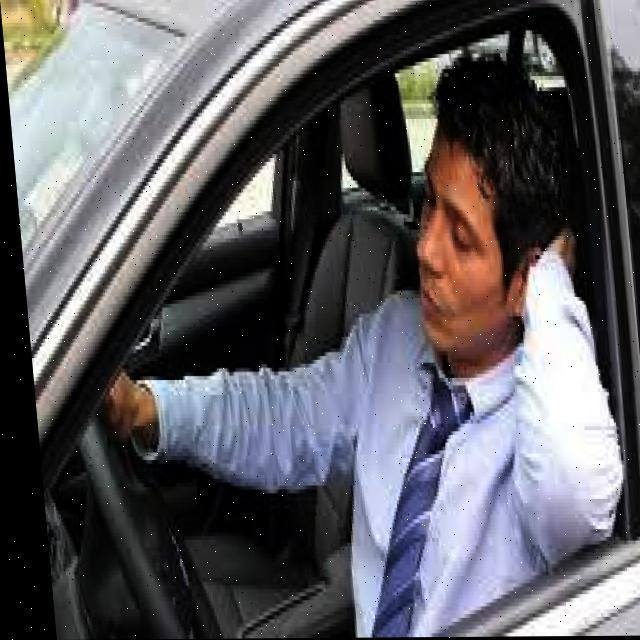noSeatbelt: (304, 282, 572, 634)
